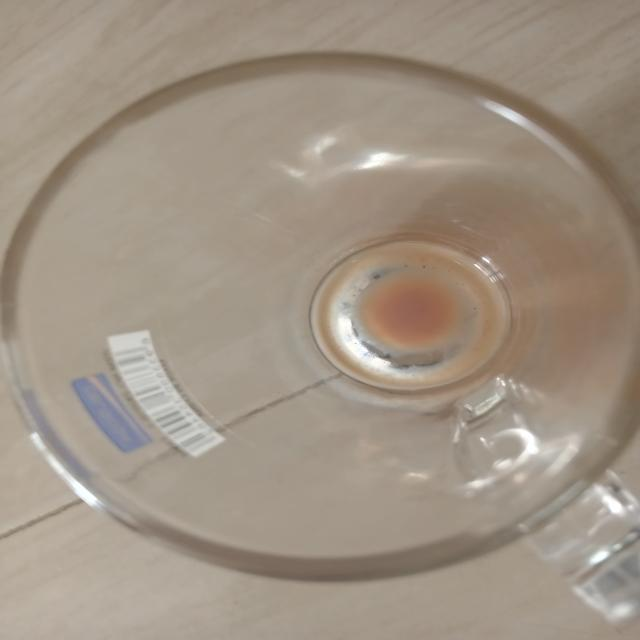glass-VX4N: (11, 40, 640, 615)
